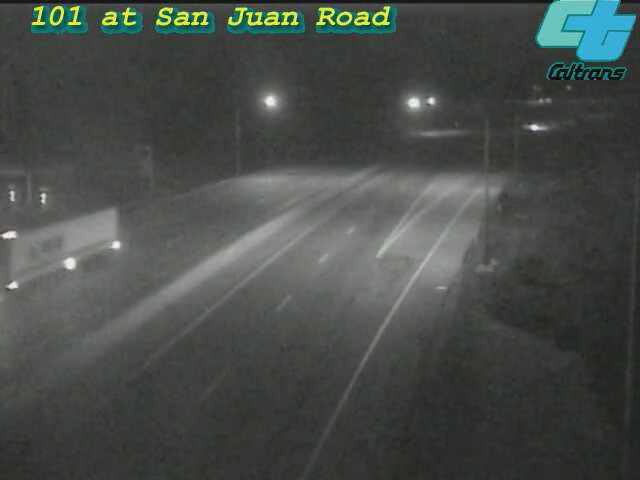vehicle: (12, 212, 92, 292), (510, 103, 560, 153)
